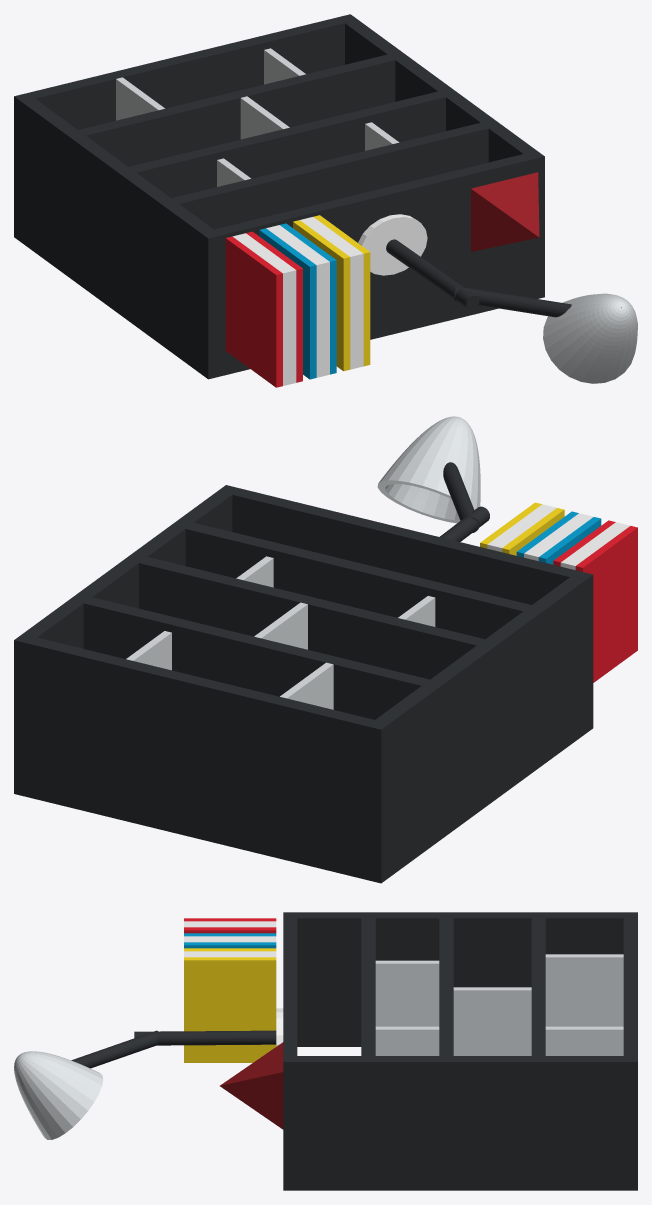
The model's file is tinker.obj.
3 views of the same model, one above another, from view 1: azimuth 30°, elevation 25°; view 2: azimuth 150°, elevation 25°; view 3: azimuth 270°, elevation 25° (orthographic). The views are drawn at different scales.
Parts seen in each view (by area): view 1: group_0_2829873, group_0_14541540, group_0_16448250, group_0_15277357, group_0_9771553, group_0_16768282, group_0_40919; view 2: group_0_2829873, group_0_14541540, group_0_15277357, group_0_16448250, group_0_40919, group_0_16768282; view 3: group_0_2829873, group_0_14541540, group_0_16768282, group_0_9771553, group_0_16448250, group_0_40919, group_0_15277357.
Part boxes in pixels (bbox=[...]): group_0_2829873: bbox=[14, 14, 571, 379]; group_0_14541540: bbox=[116, 48, 637, 383]; group_0_16448250: bbox=[232, 214, 427, 385]; group_0_15277357: bbox=[225, 231, 302, 387]; group_0_9771553: bbox=[471, 172, 539, 251]; group_0_16768282: bbox=[293, 215, 370, 371]; group_0_40919: bbox=[259, 223, 336, 379]; group_0_2829873: bbox=[14, 462, 593, 883]; group_0_14541540: bbox=[126, 416, 480, 709]; group_0_15277357: bbox=[553, 520, 637, 682]; group_0_16448250: bbox=[487, 504, 630, 569]; group_0_40919: bbox=[516, 511, 601, 564]; group_0_16768282: bbox=[480, 502, 564, 555]; group_0_2829873: bbox=[71, 912, 637, 1190]; group_0_14541540: bbox=[14, 954, 623, 1139]; group_0_16768282: bbox=[184, 948, 276, 1062]; group_0_9771553: bbox=[220, 1042, 283, 1129]; group_0_16448250: bbox=[184, 921, 283, 1046]; group_0_40919: bbox=[184, 933, 276, 948]; group_0_15277357: bbox=[184, 918, 276, 933].
Bounding box in the file's own units: 50 × 20 × 87.96.
